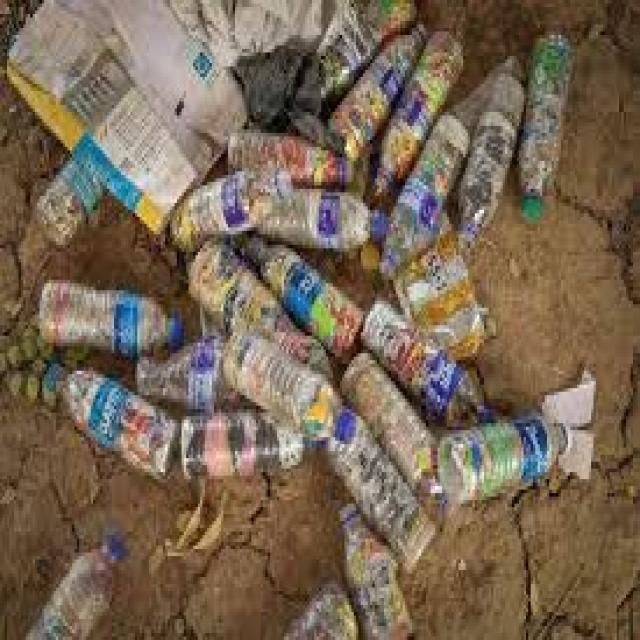heap: (127, 40, 574, 505)
